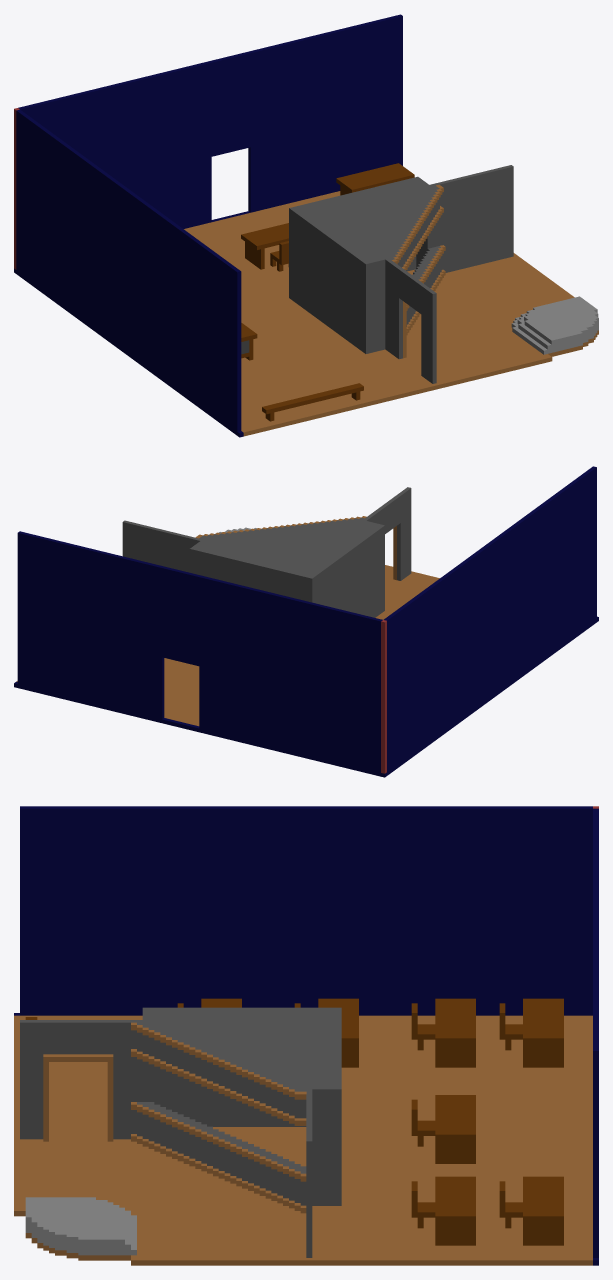
The model's file is Police Good-4-Police Station.obj.
3 renders of one model, top to bottom at view 1: azimuth 30°, elevation 25°; view 2: azimuth 150°, elevation 25°; view 3: azimuth 270°, elevation 25°, orthographic. The views are drawn at different scales.
Visible parts, largest first — view 1: Police Station; view 2: Police Station; view 3: Police Station.
Boxes of the visible parts, left/top/right/bottom form: Police Station: left=14, top=14, right=598, bottom=437; Police Station: left=14, top=466, right=598, bottom=777; Police Station: left=14, top=806, right=598, bottom=1265.
Bounding box in the file's own units: 10 × 4 × 10.
